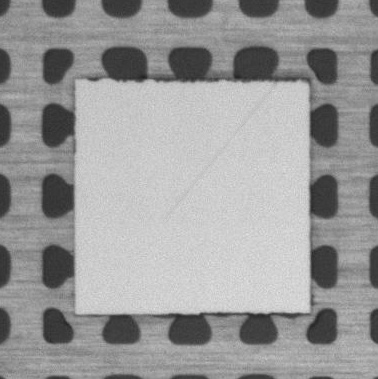DIE_CRACK: (165, 84, 275, 219)
